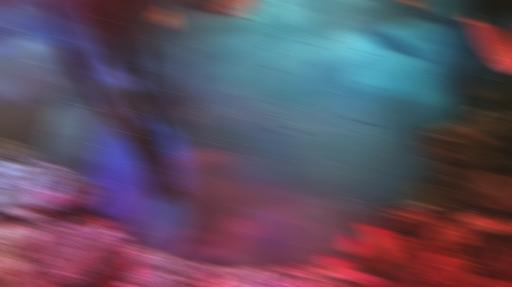Fish: (461, 15, 511, 68), (359, 220, 396, 253), (207, 0, 247, 20), (153, 3, 176, 28), (340, 234, 365, 255), (319, 257, 354, 272), (204, 271, 227, 286), (402, 0, 426, 9), (0, 0, 18, 8), (205, 0, 210, 8)
